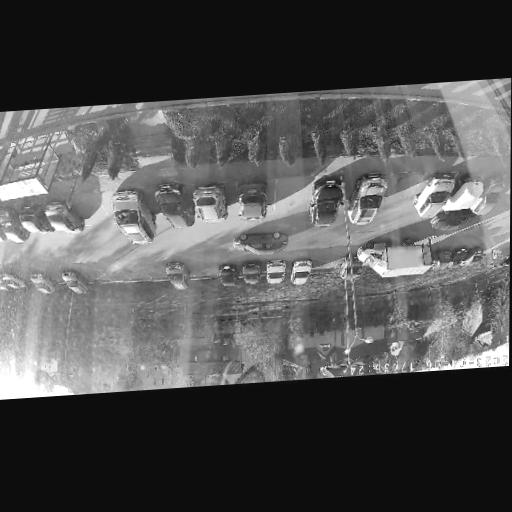busy: (107, 188, 161, 244), (357, 239, 434, 278), (412, 172, 461, 217), (147, 182, 191, 230), (349, 176, 391, 226), (305, 180, 348, 227), (186, 184, 230, 224), (232, 182, 274, 221), (229, 229, 289, 256), (40, 202, 84, 232), (450, 177, 487, 210), (473, 178, 505, 215), (15, 206, 49, 235), (0, 207, 25, 241), (54, 270, 89, 294), (159, 262, 191, 288), (288, 258, 316, 283), (263, 258, 290, 283), (214, 263, 243, 286), (26, 272, 56, 294), (238, 260, 265, 284), (431, 249, 462, 269), (0, 272, 27, 291), (462, 245, 483, 266)
free: (264, 176, 315, 219), (378, 171, 424, 211), (76, 194, 115, 231), (104, 259, 130, 291), (309, 251, 337, 276), (124, 261, 150, 287), (190, 260, 219, 283), (149, 262, 170, 289), (85, 266, 108, 289), (18, 268, 40, 291), (49, 268, 70, 292)
